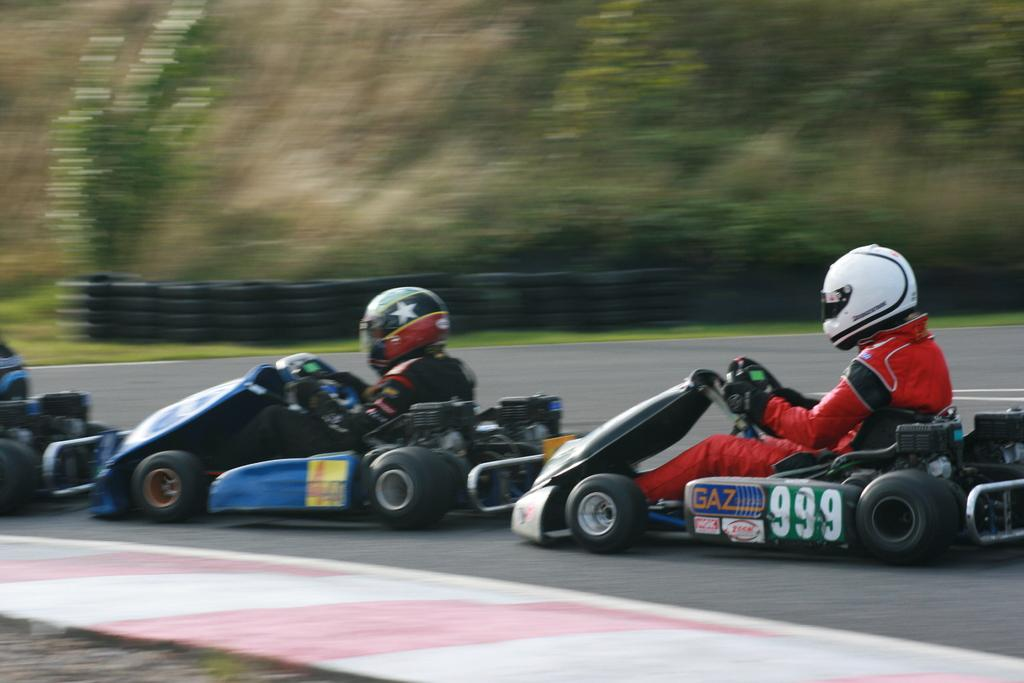helmet: (820, 244, 918, 351), (359, 286, 450, 378)
